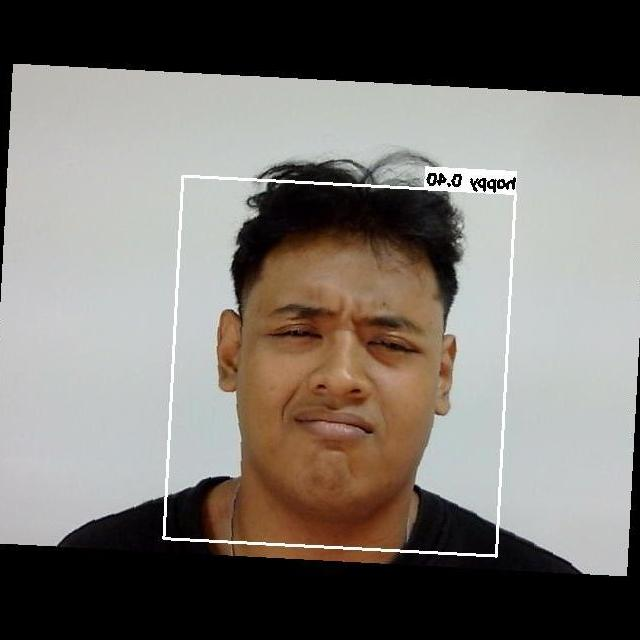Disgust: (237, 267, 435, 487)
